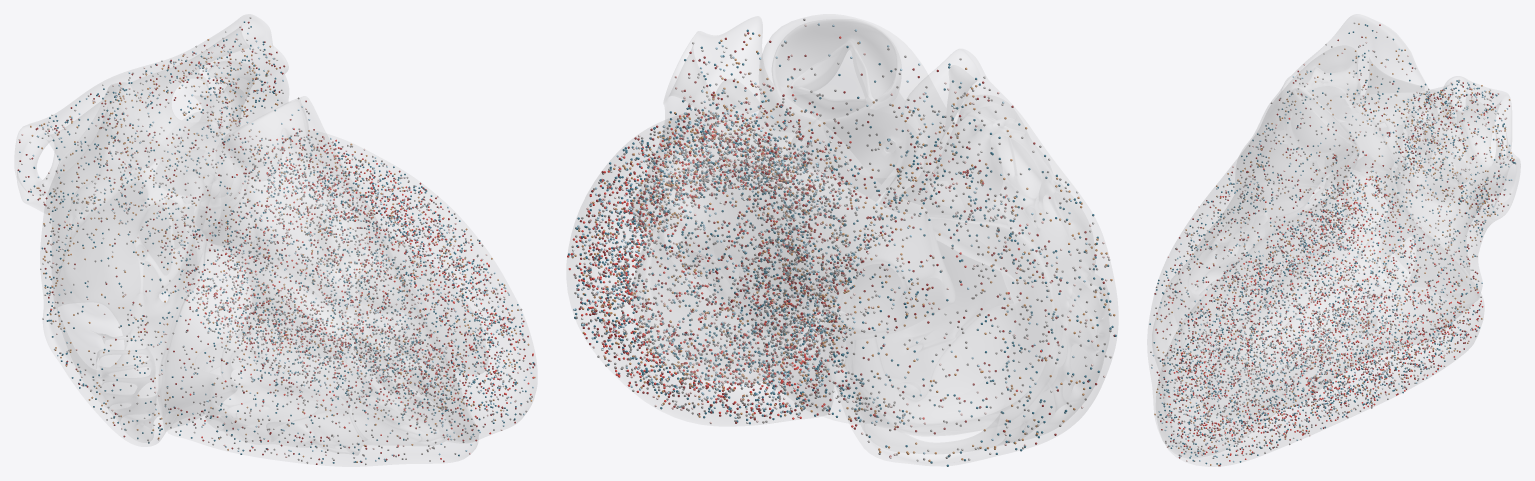
Rendered from 3d-vh-m-heart-UBERON_0000948-all-as-pan-human-azimuth-sphere-hra-pop.glb.
3 views of the same model, side by side, from view 1: azimuth 30°, elevation 25°; view 2: azimuth 150°, elevation 25°; view 3: azimuth 270°, elevation 25° (orthographic). The views are drawn at different scales.
Visible parts, largest first — view 1: VH_M_heart_right_ventricle, VH_M_right_cardiac_atrium, VH_M_heart_left_ventricle, VH_M_left_cardiac_atrium, VH_M_tricuspid_valve, VH_M_pulmonary_valve, VH_M_aortic_valve, VH_M_papillary_muscle_of_heart_anterior, VH_M_interventricular_septum; view 2: VH_M_right_cardiac_atrium, VH_M_left_cardiac_atrium, VH_M_heart_right_ventricle, VH_M_mitral_valve, VH_M_heart_left_ventricle, VH_M_pulmonary_valve, VH_M_tricuspid_valve, VH_M_aortic_valve, VH_M_papillary_muscle_of_heart_posteromedial; view 3: VH_M_heart_left_ventricle, VH_M_heart_right_ventricle, VH_M_left_cardiac_atrium, VH_M_right_cardiac_atrium, VH_M_papillary_muscle_of_heart_anterolateral, VH_M_mitral_valve, VH_M_pulmonary_valve, VH_M_interventricular_septum, VH_M_aortic_valve, VH_M_papillary_muscle_of_heart_posteromedial, VH_M_tricuspid_valve.
Part boxes in pixels (box(x1,y1,x2,y2)): VH_M_heart_right_ventricle: box(162, 96, 478, 466); VH_M_right_cardiac_atrium: box(40, 83, 215, 446); VH_M_heart_left_ventricle: box(196, 131, 536, 442); VH_M_left_cardiac_atrium: box(15, 14, 288, 215); VH_M_tricuspid_valve: box(157, 242, 251, 431); VH_M_pulmonary_valve: box(221, 100, 308, 180); VH_M_aortic_valve: box(167, 116, 240, 209); VH_M_papillary_muscle_of_heart_anterior: box(284, 356, 366, 398); VH_M_interventricular_septum: box(209, 196, 478, 443); VH_M_right_cardiac_atrium: box(826, 49, 1117, 465); VH_M_left_cardiac_atrium: box(632, 16, 954, 383); VH_M_heart_right_ventricle: box(755, 14, 1022, 435); VH_M_mitral_valve: box(643, 184, 822, 382); VH_M_heart_left_ventricle: box(567, 110, 832, 425); VH_M_pulmonary_valve: box(772, 19, 900, 118); VH_M_tricuspid_valve: box(853, 219, 1015, 432); VH_M_aortic_valve: box(787, 113, 900, 200); VH_M_papillary_muscle_of_heart_posteromedial: box(696, 261, 734, 311); VH_M_heart_left_ventricle: box(1156, 153, 1483, 466); VH_M_heart_right_ventricle: box(1147, 86, 1359, 457); VH_M_left_cardiac_atrium: box(1354, 76, 1520, 292); VH_M_right_cardiac_atrium: box(1235, 14, 1437, 190); VH_M_papillary_muscle_of_heart_anterolateral: box(1253, 234, 1383, 366); VH_M_mitral_valve: box(1380, 166, 1479, 303); VH_M_pulmonary_valve: box(1277, 88, 1357, 174); VH_M_interventricular_septum: box(1173, 167, 1387, 389); VH_M_aortic_valve: box(1336, 119, 1402, 187); VH_M_papillary_muscle_of_heart_posteromedial: box(1259, 313, 1377, 374); VH_M_tricuspid_valve: box(1251, 189, 1318, 229).
Size of the model in its own units: 0.1244 by 0.1054 by 0.1052.
